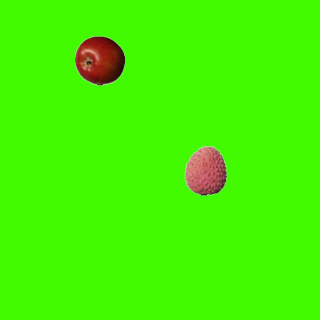Apple Braeburn: (74, 35, 124, 85)
Lychee: (180, 145, 230, 195)
